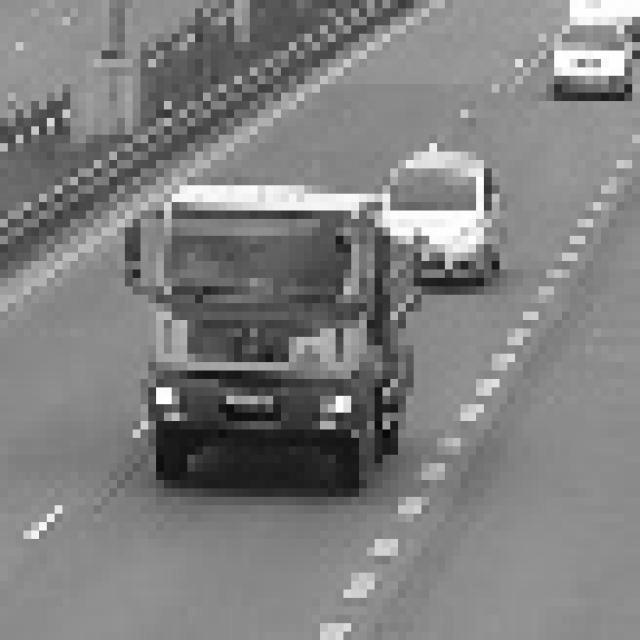truck: (118, 178, 423, 473)
